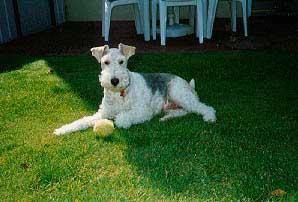wire-haired_fox_terrier: (54, 43, 216, 136)
